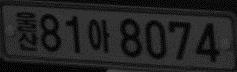0: (144, 19, 166, 60)
1: (63, 14, 86, 54)
4: (194, 22, 219, 61)
7: (167, 19, 192, 61)
8: (119, 17, 143, 58), (39, 12, 61, 52)
아: (87, 17, 111, 53)
울산_V: (14, 11, 38, 51)
